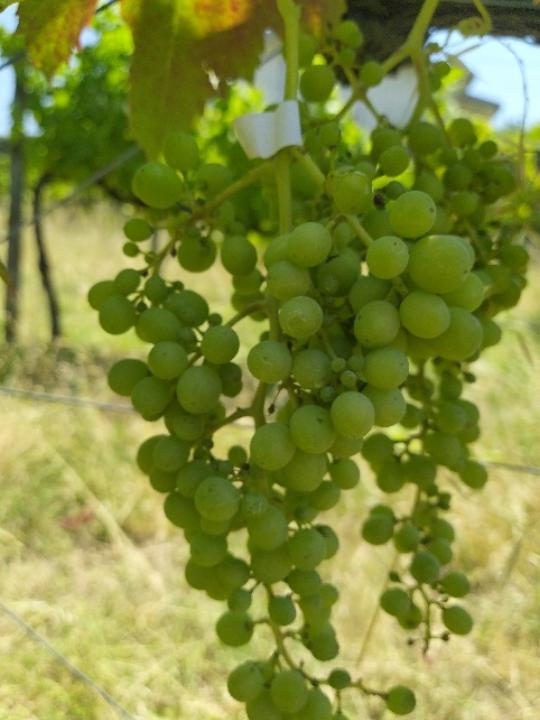grape: (78, 127, 489, 720)
